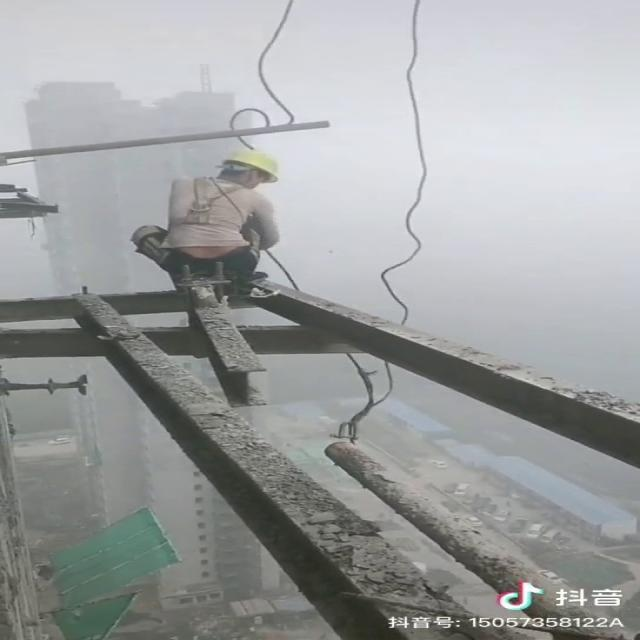Arnes_seguridad: (161, 175, 271, 243)
